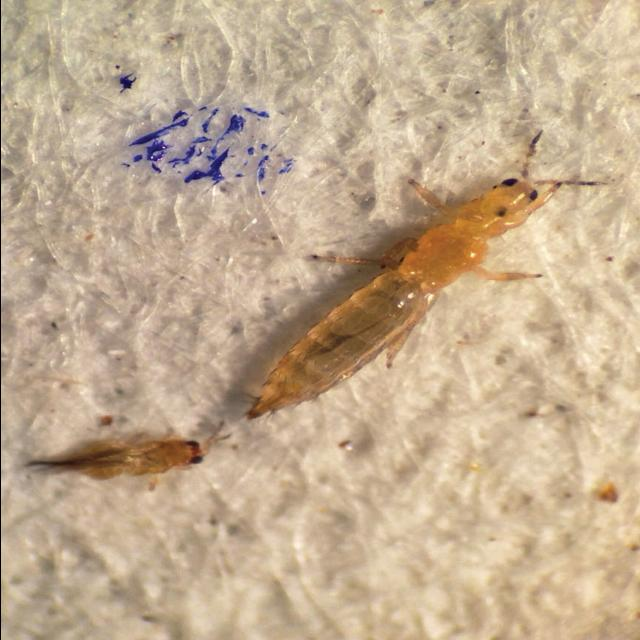thrip: (231, 134, 603, 426), (15, 418, 246, 498)
